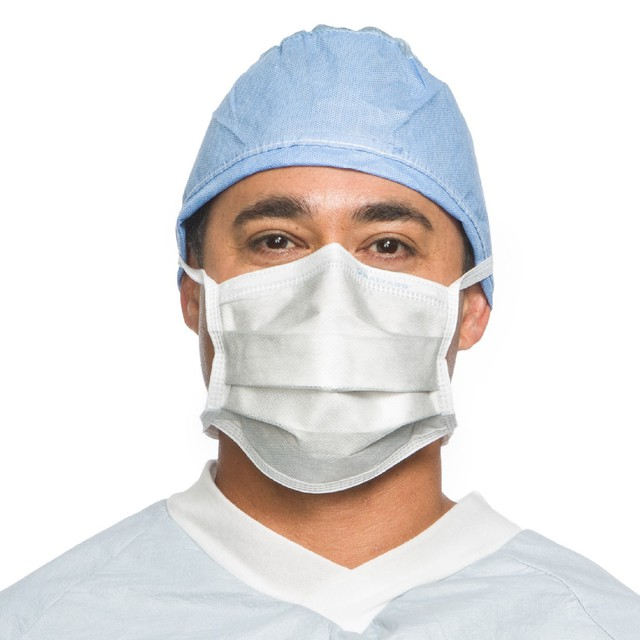mask: (197, 262, 457, 460)
